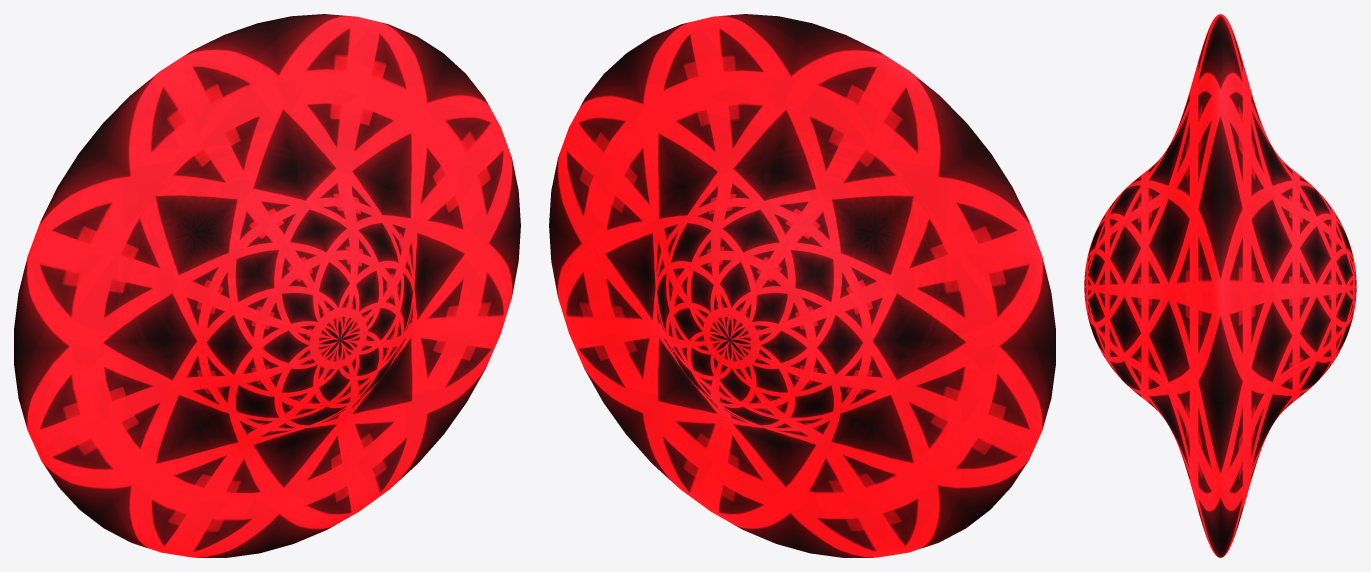
File: alchemy_gold_sketchfab_animated_1766412165063.glb
3 renders of one model, left to right at view 1: azimuth 30°, elevation 25°; view 2: azimuth 150°, elevation 25°; view 3: azimuth 270°, elevation 25°, orthographic. The views are drawn at different scales.
Parts seen in each view (by area): view 1: MathShape; view 2: MathShape; view 3: MathShape.
Part boxes in pixels (left/top/right/bottom): MathShape: left=14, top=14, right=520, bottom=557; MathShape: left=549, top=14, right=1055, bottom=557; MathShape: left=1084, top=14, right=1356, bottom=557.
Bounding box in the file's own units: 4 × 4 × 2.
1 material, 1 textured.
